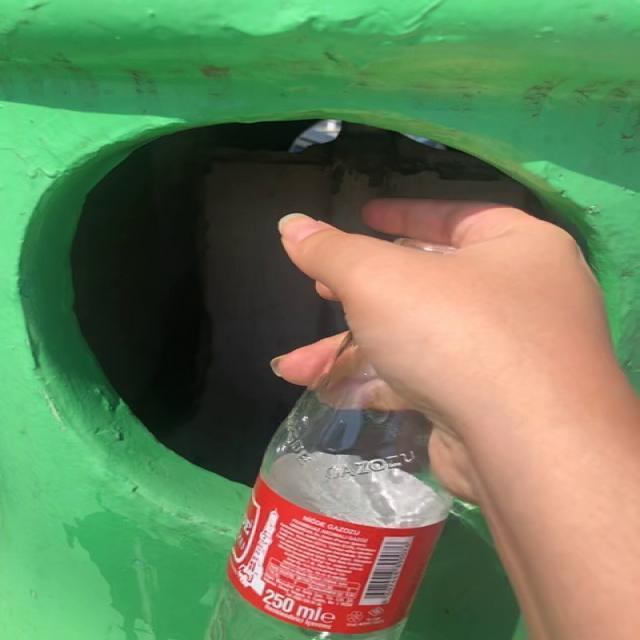Glass: (208, 337, 452, 640)
